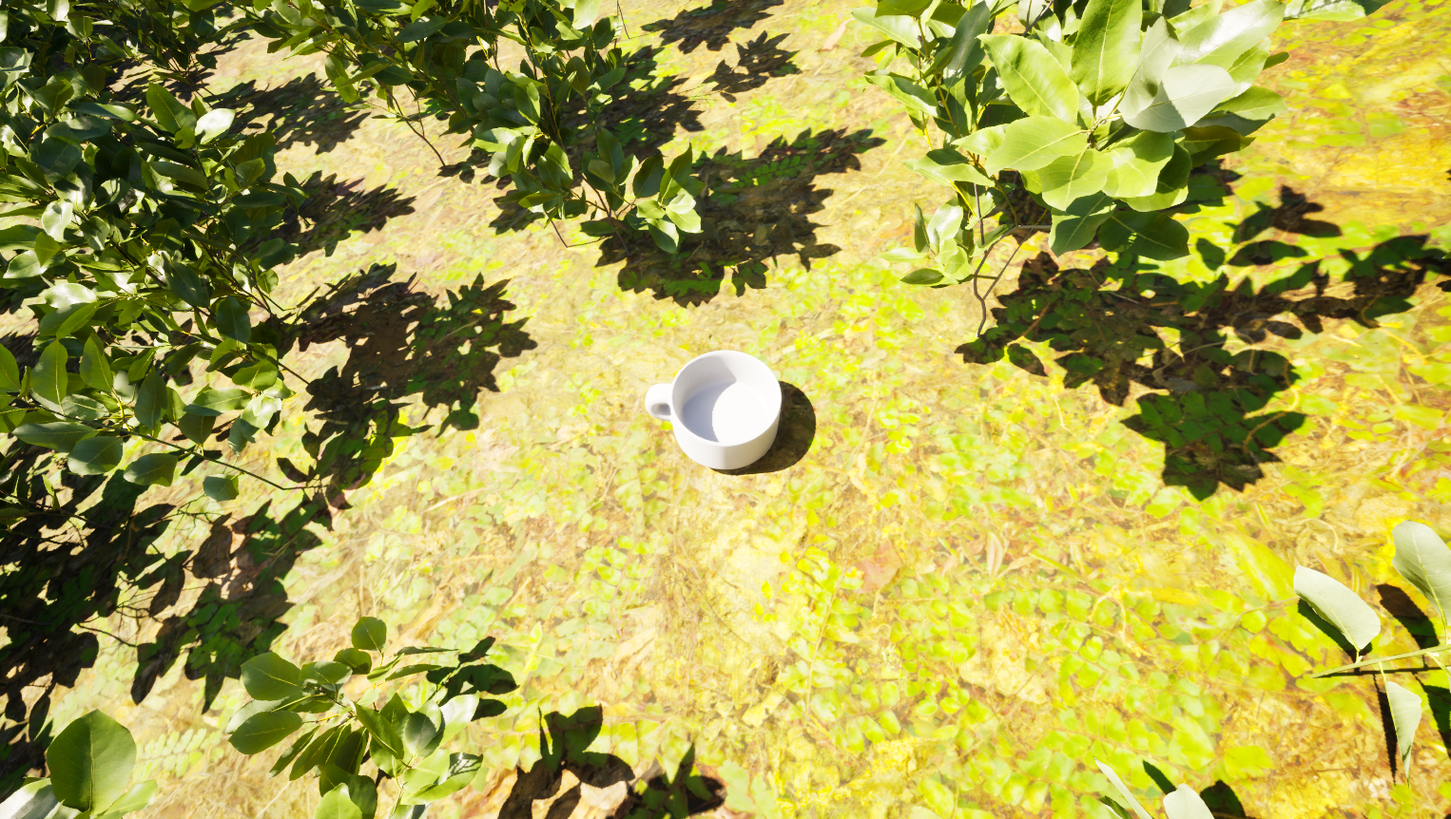Teacup: (634, 323, 805, 491)
